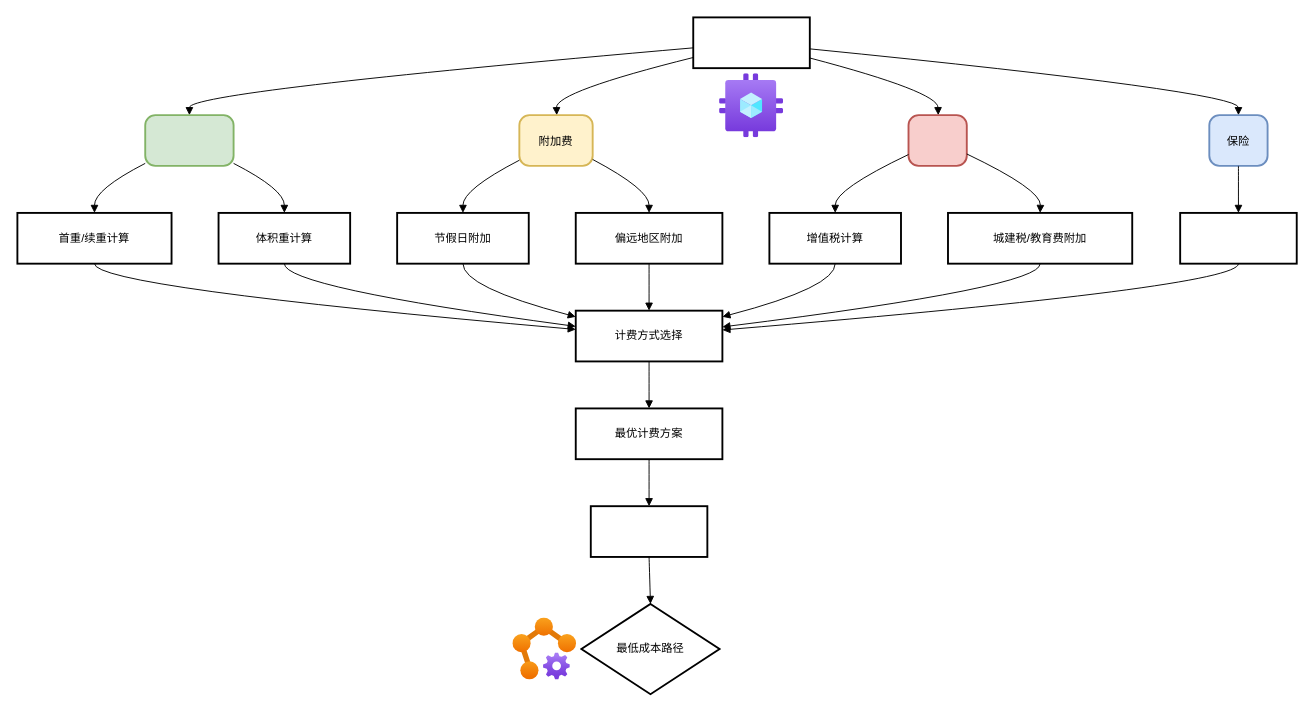
The diagram is 1313 pixels wide and 711 high, and some of its shapes have lost their labels. Here are the shapes that lost their labels. From the top down, the box of each, then its label:
(692, 16, 810, 69): 数据输入
(144, 114, 234, 166): 基础运费
(907, 114, 967, 166): 税费
(1179, 212, 1297, 264): 货物保险
(589, 505, 708, 557): 成本对比
